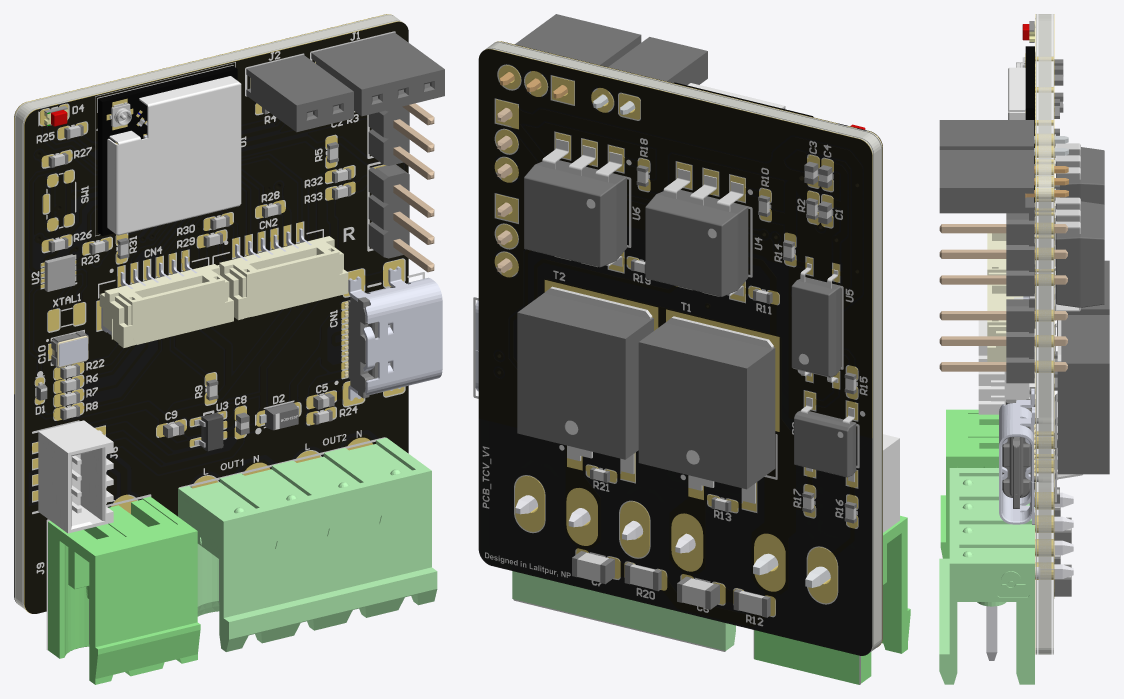
The model's file is Temperature Controlled Ventilation.glb.
3 renders of one model, left to right at view 1: azimuth 30°, elevation 25°; view 2: azimuth 150°, elevation 25°; view 3: azimuth 270°, elevation 25°, orthographic. The views are drawn at different scales.
Parts seen in each view (by area): view 1: Solder_Top, ComponentBody.93, ComponentBody.94, ComponentBody.48, ComponentBody.54, ComponentBody.75, Core.1, Top, ComponentBody.33, ComponentBody.73, ComponentBody.89, ComponentBody.91 (+14 smaller); view 2: Solder_Bottom, ComponentBody.118, ComponentBody.115, ComponentBody.108, ComponentBody.105, Core.1, ComponentBody.94, ComponentBody.93, Core.2, ComponentBody.142, Pad.37, Bottom (+23 smaller); view 3: ComponentBody.93, Core.1, ComponentBody.115, ComponentBody.89, ComponentBody.105, ComponentBody.94, ComponentBody.91, ComponentBody.54, ComponentBody.99, ComponentBody.97, ComponentBody.98, ComponentBody.96 (+23 smaller).
Part boxes in pixels (bbox=[...]): Solder_Top: bbox=[24, 21, 408, 613]; ComponentBody.93: bbox=[178, 437, 437, 651]; ComponentBody.94: bbox=[48, 496, 200, 684]; ComponentBody.48: bbox=[107, 76, 241, 235]; ComponentBody.54: bbox=[348, 266, 442, 400]; ComponentBody.75: bbox=[99, 264, 233, 347]; Core.1: bbox=[15, 15, 401, 609]; Top: bbox=[31, 31, 424, 650]; ComponentBody.33: bbox=[38, 420, 113, 533]; ComponentBody.73: bbox=[217, 236, 348, 320]; ComponentBody.89: bbox=[311, 32, 444, 116]; ComponentBody.91: bbox=[246, 54, 353, 132]; Solder_Bottom: bbox=[478, 49, 872, 655]; ComponentBody.118: bbox=[638, 322, 775, 489]; ComponentBody.115: bbox=[517, 292, 653, 459]; ComponentBody.108: bbox=[645, 189, 748, 296]; ComponentBody.105: bbox=[524, 160, 626, 267]; Core.1: bbox=[485, 42, 881, 652]; ComponentBody.94: bbox=[754, 515, 910, 684]; ComponentBody.93: bbox=[512, 571, 735, 650]; Core.2: bbox=[486, 48, 873, 652]; ComponentBody.142: bbox=[791, 278, 840, 377]; Pad.37: bbox=[515, 476, 702, 570]; Bottom: bbox=[482, 138, 867, 626]; ComponentBody.93: bbox=[939, 468, 1034, 684]; Core.1: bbox=[1038, 14, 1051, 654]; ComponentBody.115: bbox=[1057, 315, 1109, 474]; ComponentBody.89: bbox=[939, 150, 1034, 213]; ComponentBody.105: bbox=[1056, 201, 1104, 307]; ComponentBody.94: bbox=[940, 409, 998, 558]; ComponentBody.91: bbox=[939, 120, 1034, 149]; ComponentBody.54: bbox=[999, 388, 1035, 524]; ComponentBody.99: bbox=[939, 311, 1067, 371]; ComponentBody.97: bbox=[939, 224, 1067, 284]; ComponentBody.98: bbox=[1006, 299, 1034, 383]; ComponentBody.96: bbox=[1006, 212, 1034, 296].
Size of the model in its own units: 3.9 by 5.06 by 1.53.
